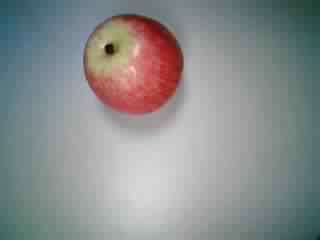apple: (81, 15, 186, 117)
